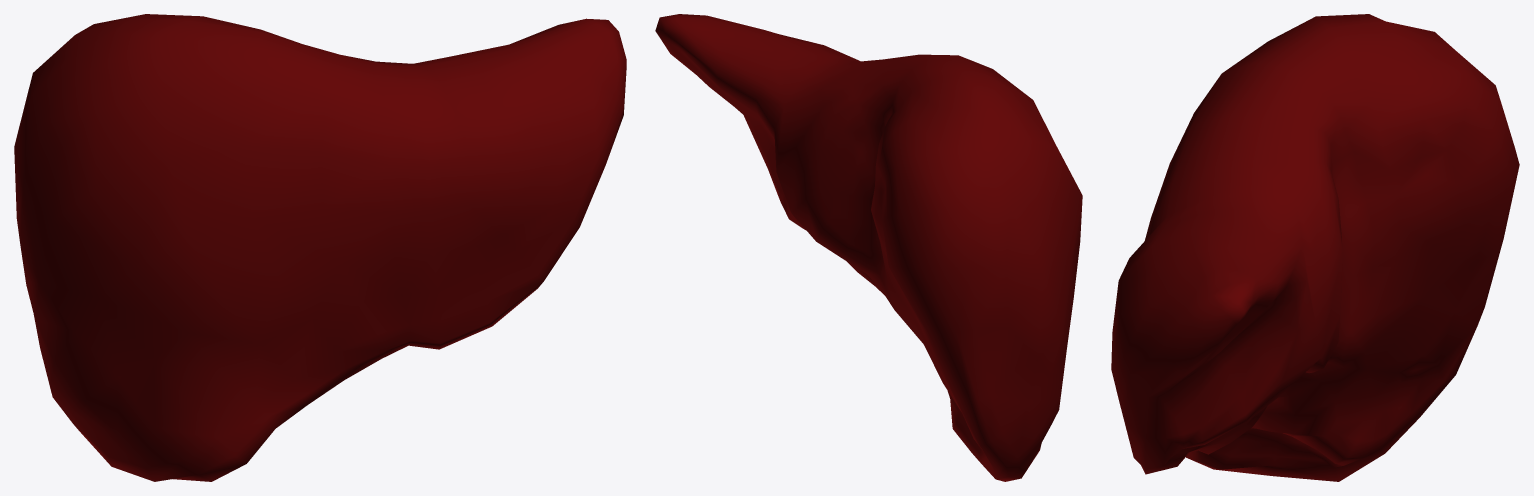
Rendered from liver.glb.
3 views of the same model, side by side, from view 1: azimuth 30°, elevation 25°; view 2: azimuth 150°, elevation 25°; view 3: azimuth 270°, elevation 25° (orthographic). The views are drawn at different scales.
Parts seen in each view (by area): view 1: model_9; view 2: model_9; view 3: model_9.
Part boxes in pixels (left/top/right/bottom): model_9: left=14, top=14, right=626, bottom=481; model_9: left=655, top=14, right=1082, bottom=481; model_9: left=1111, top=14, right=1519, bottom=481.
Bounding box in the file's own units: 0.8296 × 0.6768 × 0.5191.
